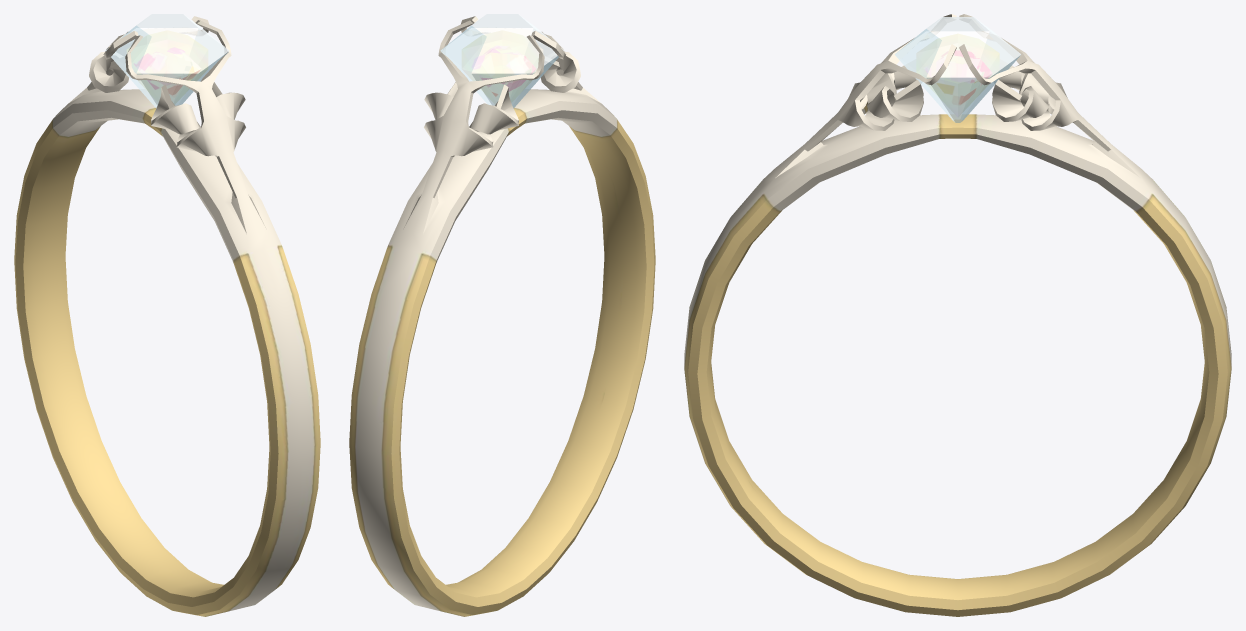
Rendered from uzuk.glb.
3 renders of one model, left to right at view 1: azimuth 30°, elevation 25°; view 2: azimuth 150°, elevation 25°; view 3: azimuth 270°, elevation 25°, orthographic. The views are drawn at different scales.
Parts seen in each view (by area): view 1: defaultMaterial; view 2: defaultMaterial; view 3: defaultMaterial.
Part boxes in pixels (x1,y1,x2,y2): defaultMaterial: (14, 14, 320, 616); defaultMaterial: (349, 14, 655, 616); defaultMaterial: (684, 14, 1231, 616).
Bounding box in the file's own units: 0.3738 × 2 × 1.71.
1 material, 1 textured.
